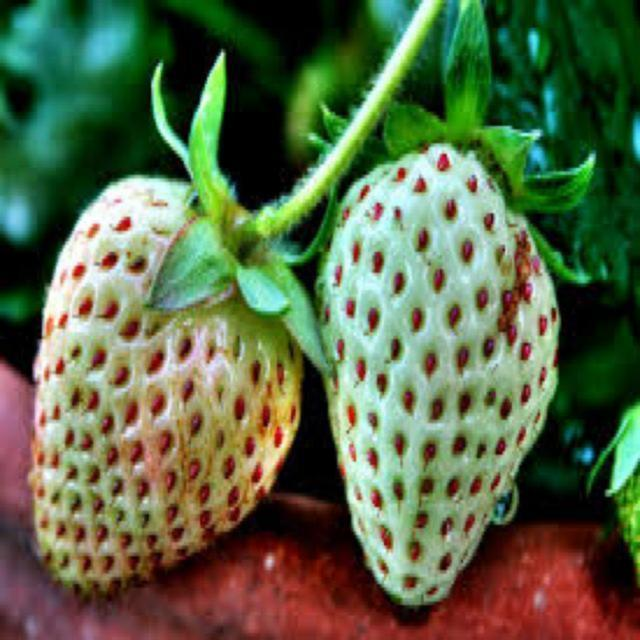unripe: (35, 178, 302, 590), (323, 145, 559, 602)
